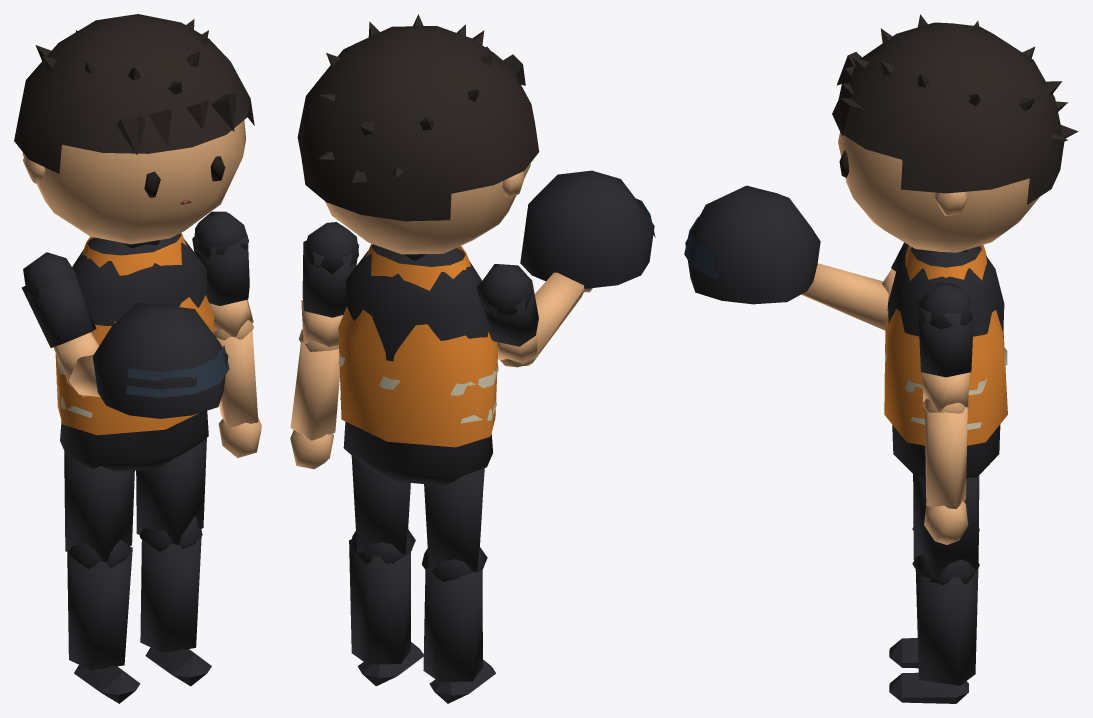
Rendered from era3_moto_taxi.glb.
3 views of the same model, side by side, from view 1: azimuth 30°, elevation 25°; view 2: azimuth 150°, elevation 25°; view 3: azimuth 270°, elevation 25° (orthographic).
Visible parts, largest first — view 1: head, body, prop_moto_helmet, shin_R, shin_L, leg_R, leg_L, arm_R, arm_L, forearm_L, forearm_R; view 2: head, body, prop_moto_helmet, shin_L, shin_R, arm_L, leg_R, forearm_L, leg_L, arm_R, forearm_R; view 3: head, body, prop_moto_helmet, shin_L, arm_L, forearm_L, leg_L, forearm_R, shin_R.
Part boxes in pixels (left/top/right/bottom): head: left=14, top=14, right=254, bottom=244; body: left=55, top=232, right=214, bottom=471; prop_moto_helmet: left=92, top=303, right=229, bottom=418; shin_R: left=67, top=540, right=140, bottom=703; shin_L: left=140, top=516, right=211, bottom=686; leg_R: left=64, top=451, right=134, bottom=569; leg_L: left=136, top=438, right=206, bottom=551; arm_R: left=22, top=252, right=99, bottom=396; arm_L: left=192, top=211, right=253, bottom=340; forearm_L: left=216, top=326, right=261, bottom=457; forearm_R: left=67, top=354, right=100, bottom=397; head: left=297, top=14, right=539, bottom=254; body: left=338, top=243, right=498, bottom=485; prop_moto_helmet: left=520, top=170, right=655, bottom=288; shin_L: left=349, top=529, right=423, bottom=686; shin_R: left=421, top=547, right=495, bottom=703; arm_L: left=299, top=222, right=358, bottom=351; leg_R: left=422, top=468, right=487, bottom=581; forearm_L: left=290, top=333, right=339, bottom=469; leg_L: left=350, top=455, right=415, bottom=563; arm_R: left=476, top=264, right=538, bottom=365; forearm_R: left=500, top=272, right=592, bottom=367; head: left=832, top=14, right=1078, bottom=252; body: left=884, top=245, right=1007, bottom=482; prop_moto_helmet: left=684, top=185, right=820, bottom=304; shin_L: left=889, top=553, right=979, bottom=703; arm_L: left=918, top=283, right=974, bottom=412; forearm_L: left=922, top=398, right=968, bottom=544; leg_L: left=912, top=474, right=979, bottom=585; forearm_R: left=801, top=263, right=888, bottom=330; shin_R: left=889, top=528, right=979, bottom=668.
Size of the model in its own units: 0.6082 by 1.48 by 0.8143.
